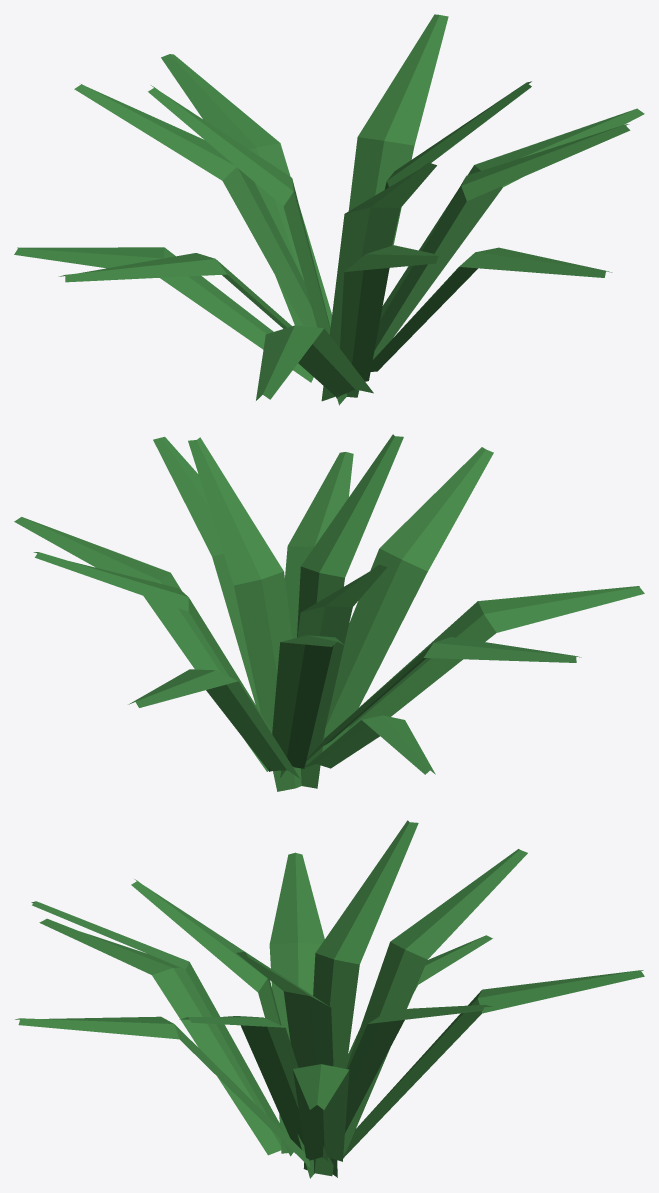
The model's file is grass.glb.
3 renders of one model, top to bottom at view 1: azimuth 30°, elevation 25°; view 2: azimuth 150°, elevation 25°; view 3: azimuth 270°, elevation 25°, orthographic. The views are drawn at different scales.
Visible parts, largest first — view 1: Blade4, Blade2, Blade1, Blade11, Blade8, Blade3, Blade9, Blade7, Blade12, Blade6, Blade5, Blade10 (+1 smaller); view 2: Blade8, Blade13, Blade7, Blade12, Blade2, Blade3, Blade1, Blade6, Blade11, Blade5, Blade10, Blade9 (+1 smaller); view 3: Blade11, Blade2, Blade7, Blade10, Blade1, Blade3, Blade6, Blade13, Blade5, Blade4, Blade12, Blade8 (+1 smaller).
Part boxes in pixels (box(x1,y1,x2,y2)): Blade4: box(348, 14, 448, 245); Blade2: box(74, 84, 317, 327); Blade1: box(161, 54, 331, 327); Blade11: box(148, 85, 347, 405); Blade8: box(337, 245, 446, 397); Blade3: box(373, 108, 644, 359); Blade9: box(14, 247, 313, 382); Blade7: box(256, 325, 373, 400); Blade12: box(321, 162, 436, 401); Blade6: box(374, 124, 630, 350); Blade5: box(370, 247, 612, 371); Blade10: box(58, 253, 358, 390); Blade8: box(322, 447, 493, 751); Blade13: box(188, 437, 301, 791); Blade7: box(347, 586, 644, 731); Blade12: box(297, 434, 403, 788); Blade2: box(269, 635, 343, 771); Blade3: box(14, 517, 268, 771); Blade1: box(128, 669, 299, 778); Blade6: box(153, 436, 260, 712); Blade11: box(280, 564, 387, 777); Blade5: box(285, 452, 353, 638); Blade10: box(306, 637, 581, 760); Blade9: box(303, 715, 435, 774); Blade11: box(303, 820, 418, 1176); Blade2: box(343, 849, 527, 1154); Blade7: box(39, 918, 281, 1155); Blade10: box(269, 852, 324, 1153); Blade1: box(343, 970, 644, 1157); Blade3: box(293, 1064, 349, 1161); Blade6: box(179, 1016, 328, 1161); Blade13: box(236, 952, 337, 1177); Blade5: box(15, 1016, 310, 1167); Blade4: box(308, 1004, 492, 1159); Blade12: box(131, 879, 314, 1178); Blade8: box(31, 901, 293, 1156).
Bounding box in the file's own units: 0.5929 × 0.2949 × 0.5848.
